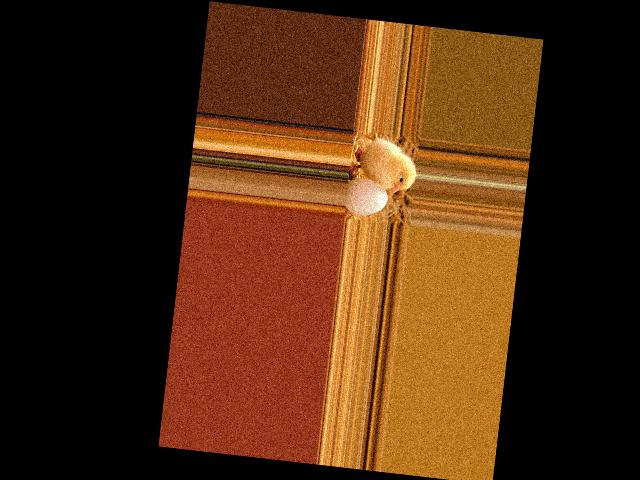egg: (343, 175, 389, 217)
